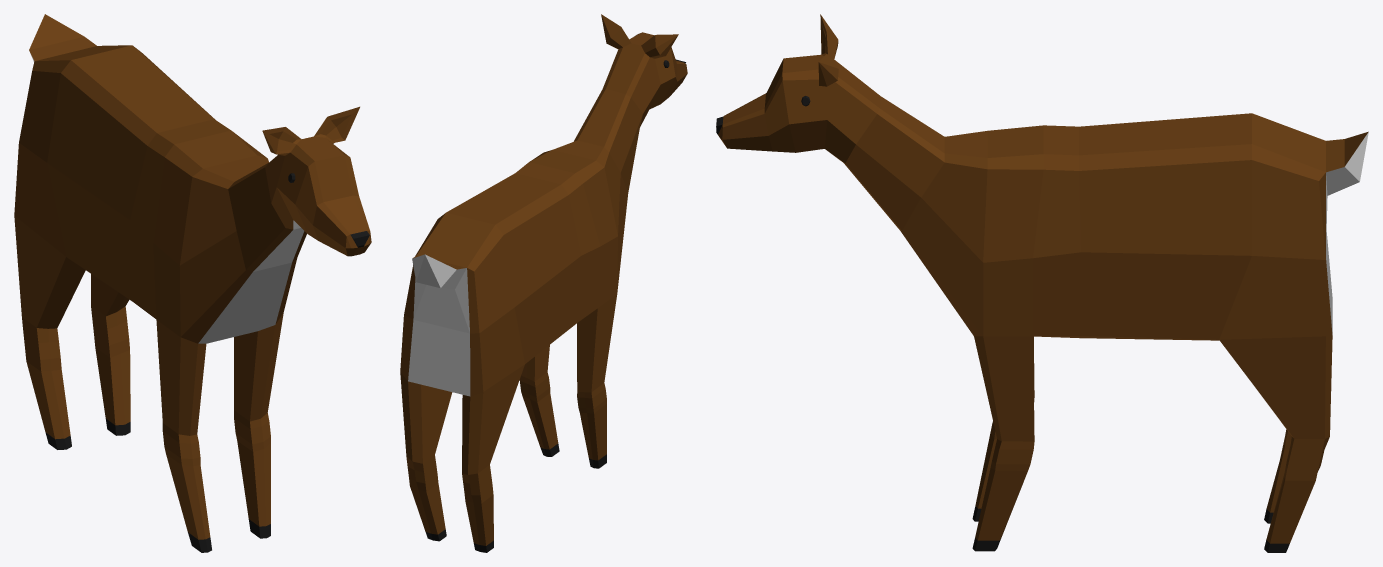
Rendered from Deer_01.fbx.
3 renders of one model, left to right at view 1: azimuth 30°, elevation 25°; view 2: azimuth 150°, elevation 25°; view 3: azimuth 270°, elevation 25°, orthographic. The views are drawn at different scales.
Parts seen in each view (by area): view 1: Deer_01; view 2: Deer_01; view 3: Deer_01.
Part boxes in pixels (left/top/right/bottom): Deer_01: left=14, top=14, right=371, bottom=552; Deer_01: left=400, top=14, right=687, bottom=552; Deer_01: left=716, top=14, right=1368, bottom=552.
Size of the model in its own units: 2.21 by 9.31 by 11.08.
